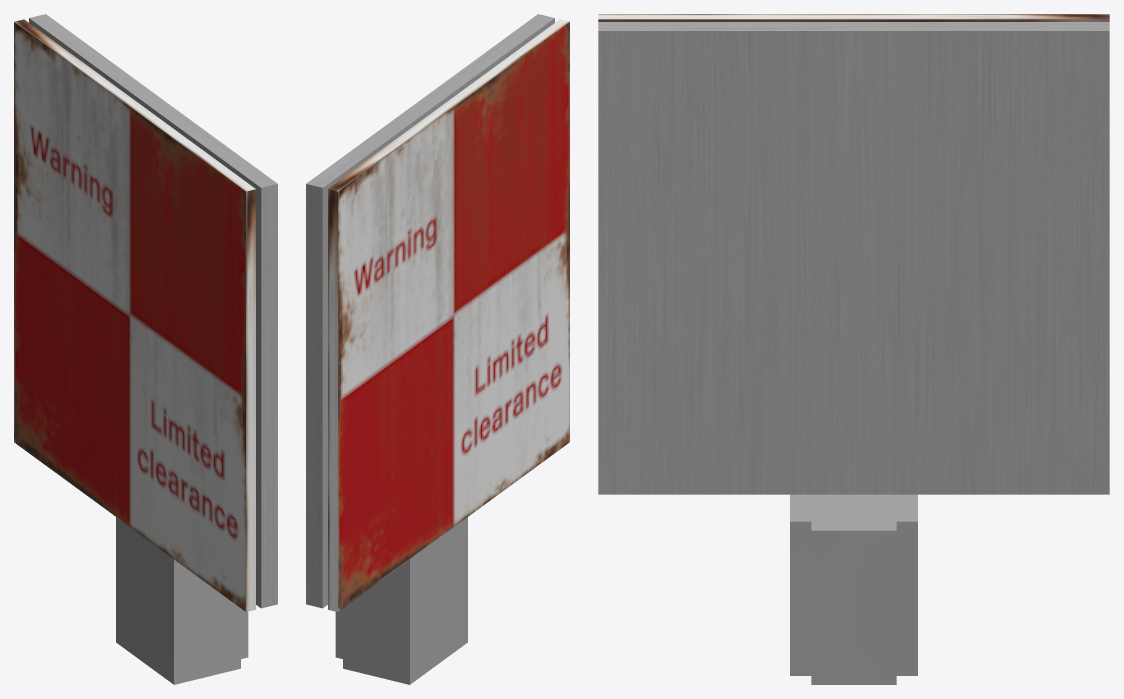
The model's file is limited_clearance_rusty_small.obj.
The picture shows the model from 3 angles, left to right: view 1: azimuth 30°, elevation 25°; view 2: azimuth 150°, elevation 25°; view 3: azimuth 270°, elevation 25°; orthographic projection. The views are drawn at different scales.
Visible parts, largest first — view 1: cube; view 2: cube; view 3: cube.
Part boxes in pixels (x1,y1,x2,y2): cube: [14, 14, 277, 684]; cube: [306, 14, 569, 684]; cube: [598, 14, 1109, 684].
Size of the model in its own units: 0.0922 by 0.5 by 0.375.
Materials: 2 (2 with a texture image).
